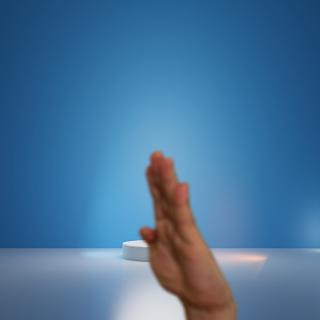RIGHT: (134, 144, 234, 309)
